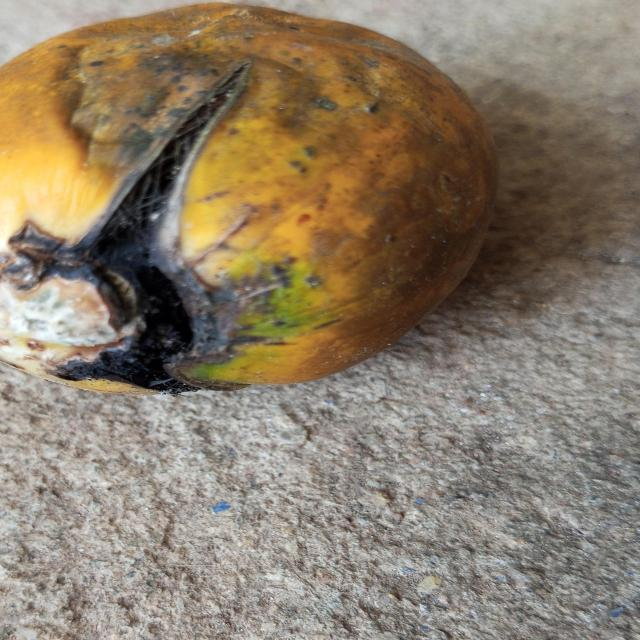damaged: (0, 5, 496, 394)
